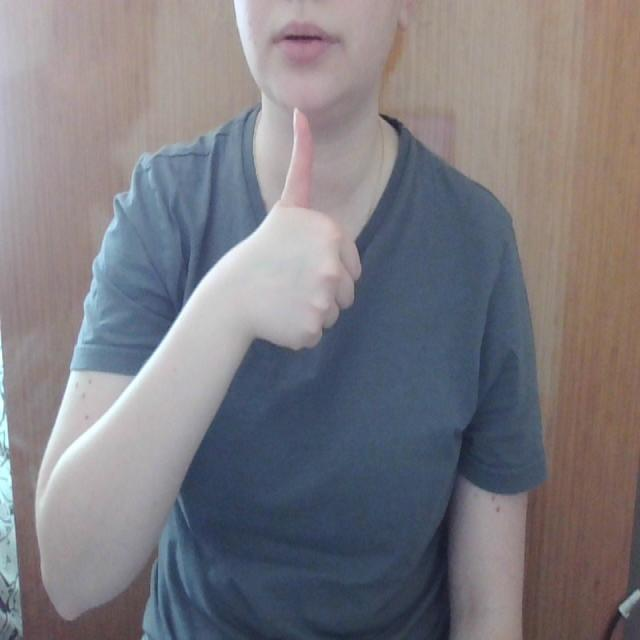Baba: (252, 11, 342, 196)
